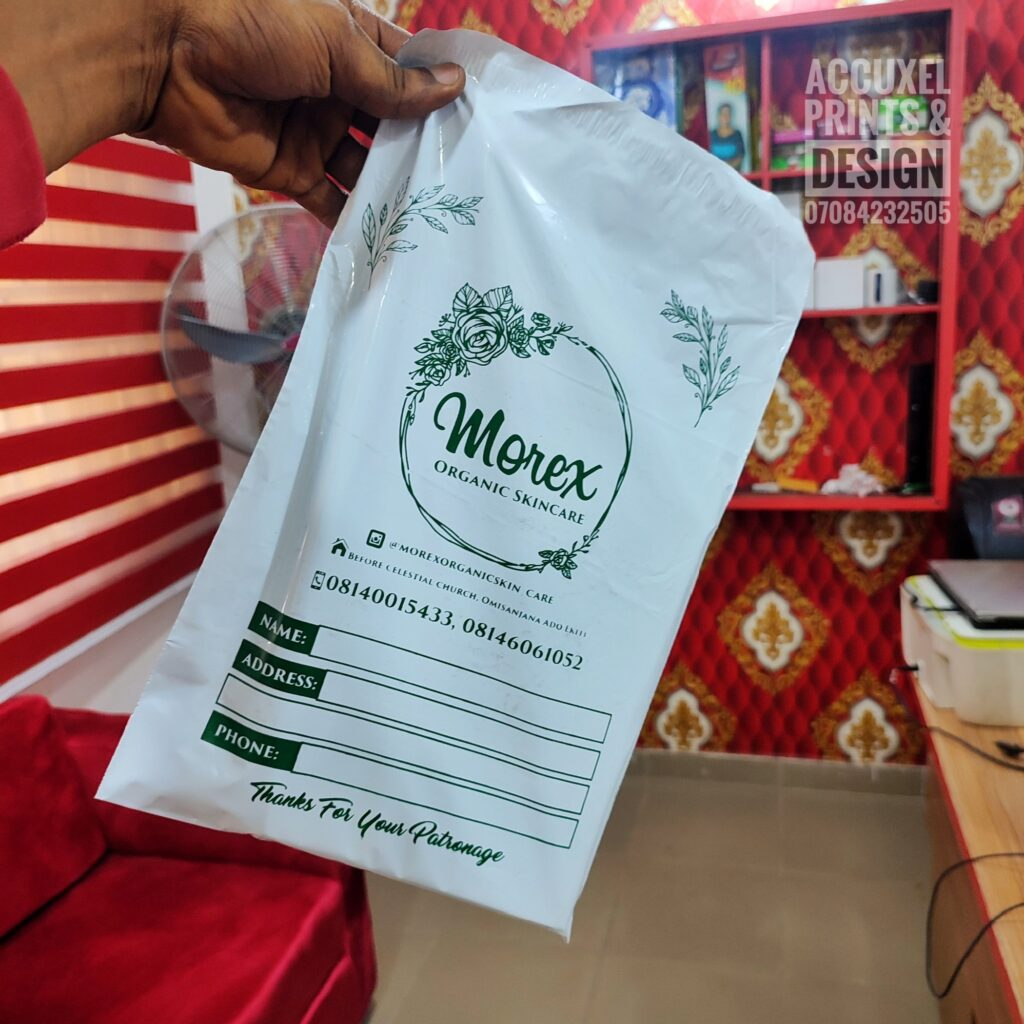塑料袋: (102, 31, 812, 933)
